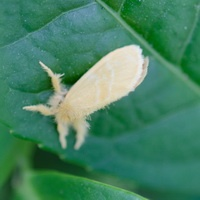insect: (23, 45, 148, 149)
